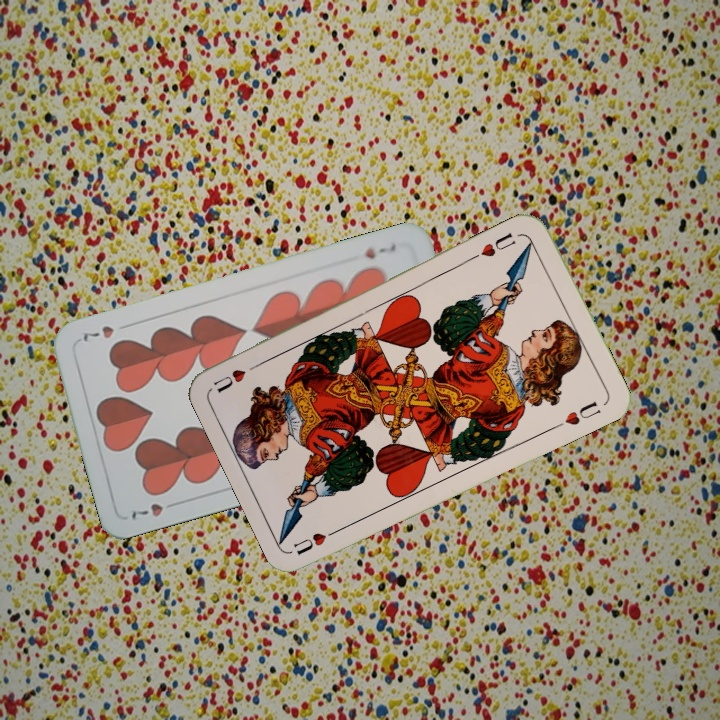H7: (127, 497, 182, 524), (361, 240, 398, 262)
HU: (289, 523, 345, 558), (470, 228, 519, 261)
